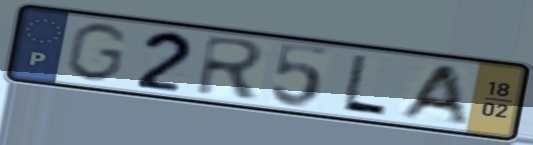2: (130, 27, 198, 96)
5: (267, 39, 337, 111)
A: (392, 63, 470, 125)
G: (61, 21, 133, 84)
L: (336, 51, 392, 119)
R: (193, 32, 270, 102)
